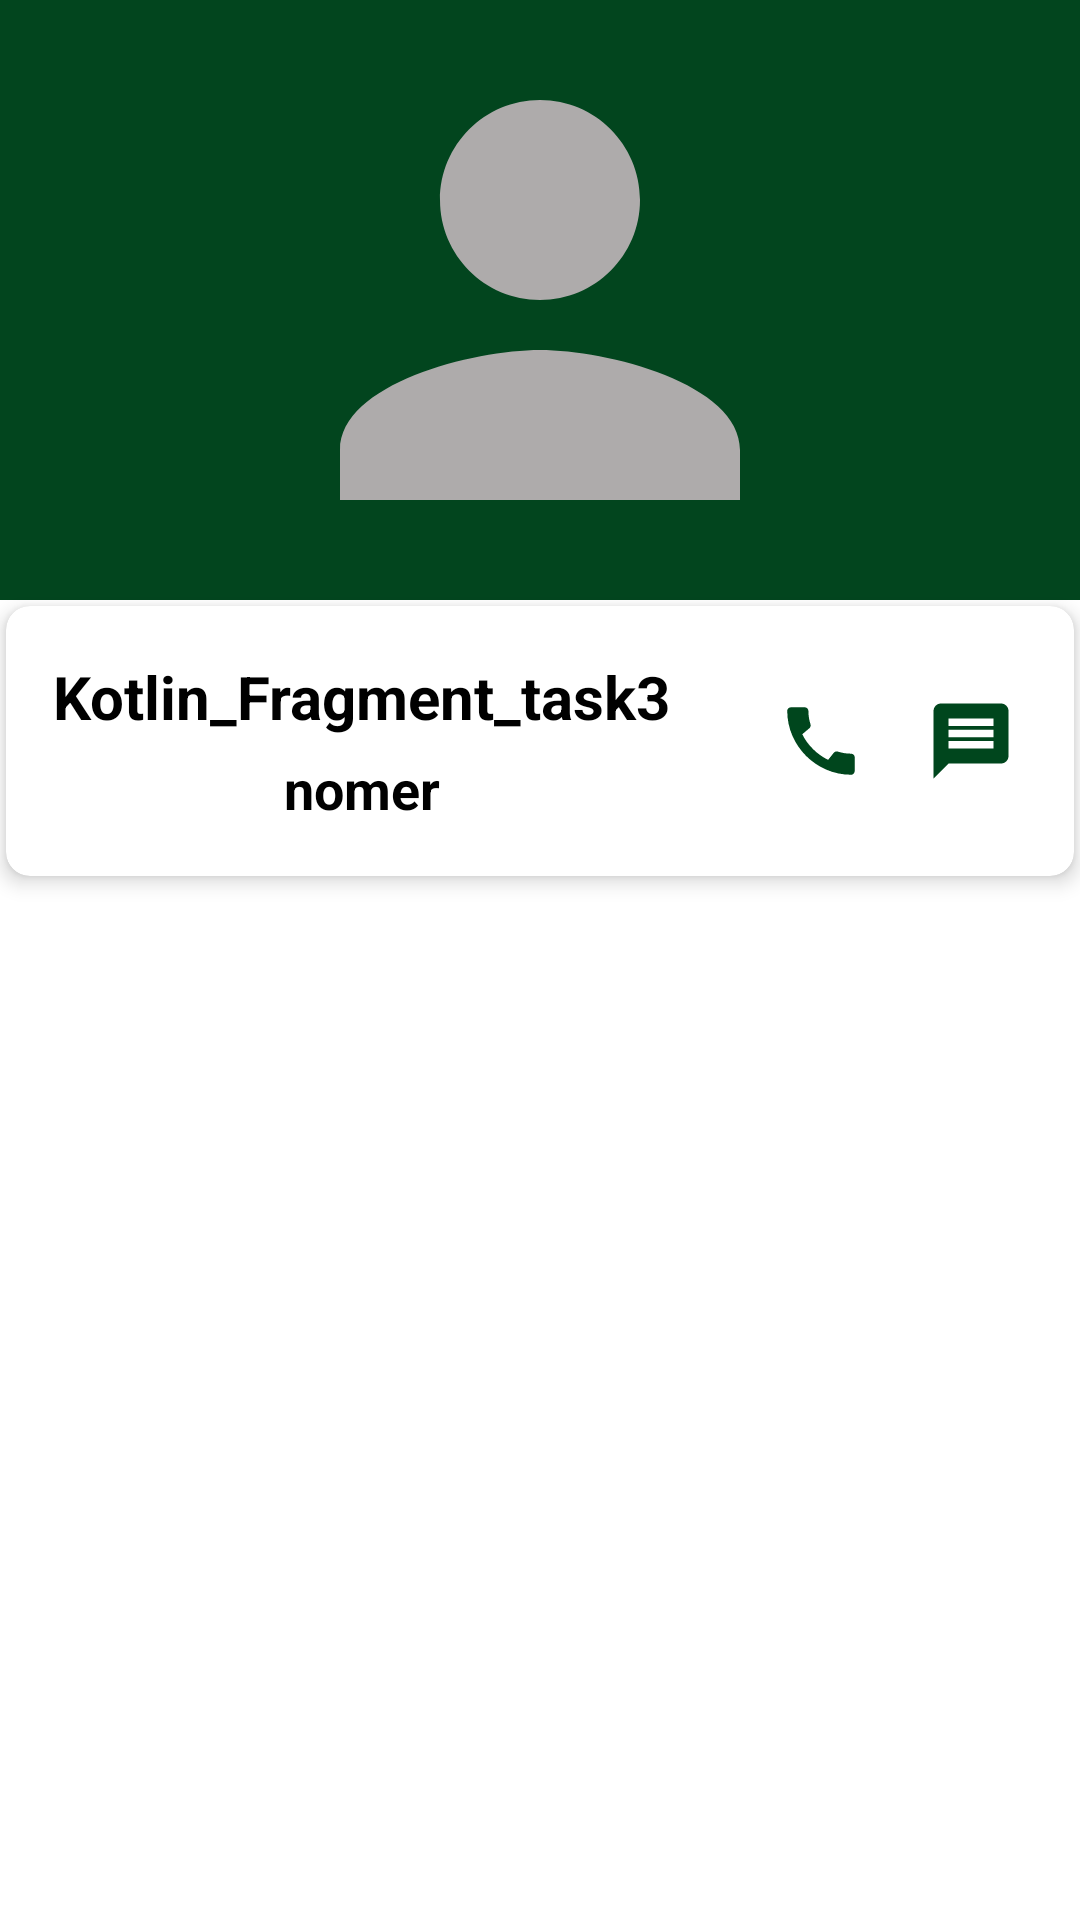

Icons on this 1080px x 1920px Android screen, each with the point to tap as [x,y]:
call: [821,741]
message: [971,741]
